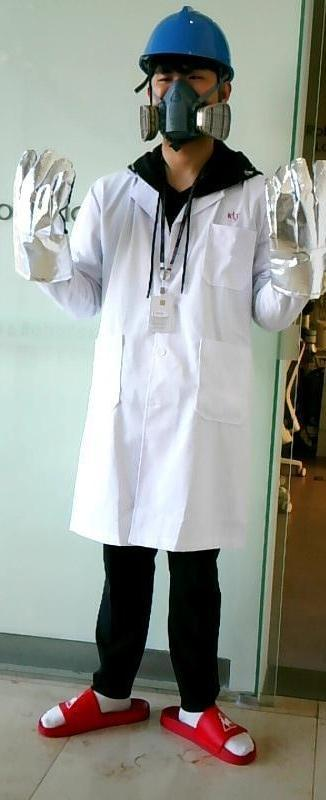lab_coat: (80, 174, 275, 547)
